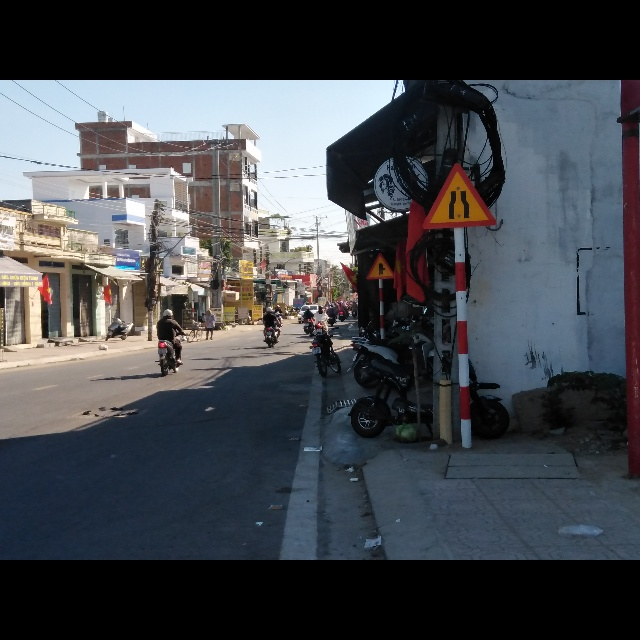Giao nhau với đường không ưu tiên: (367, 254, 396, 280)
Đường bị hẹp cả hai bên: (422, 161, 499, 230)
